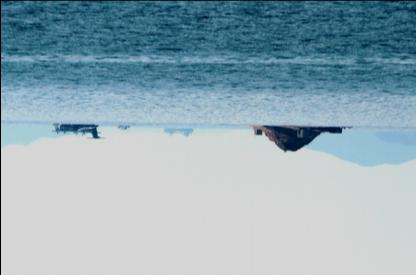Tu95: (50, 123, 104, 138)
